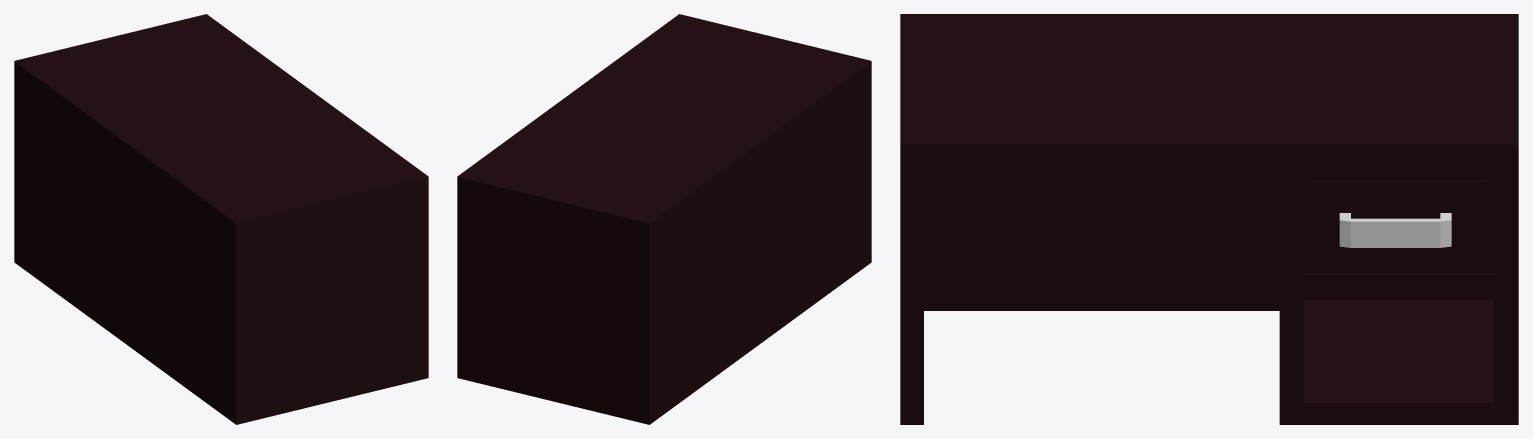
The model's file is desk.fbx.
3 renders of one model, left to right at view 1: azimuth 30°, elevation 25°; view 2: azimuth 150°, elevation 25°; view 3: azimuth 270°, elevation 25°, orthographic. The views are drawn at different scales.
Parts seen in each view (by area): view 1: Desk; view 2: Desk; view 3: Desk.
Boxes of the visible parts, left/top/right/bottom form: Desk: left=14, top=14, right=428, bottom=424; Desk: left=457, top=14, right=871, bottom=424; Desk: left=900, top=14, right=1518, bottom=424.
Size of the model in its own units: 106 by 100 by 200.
